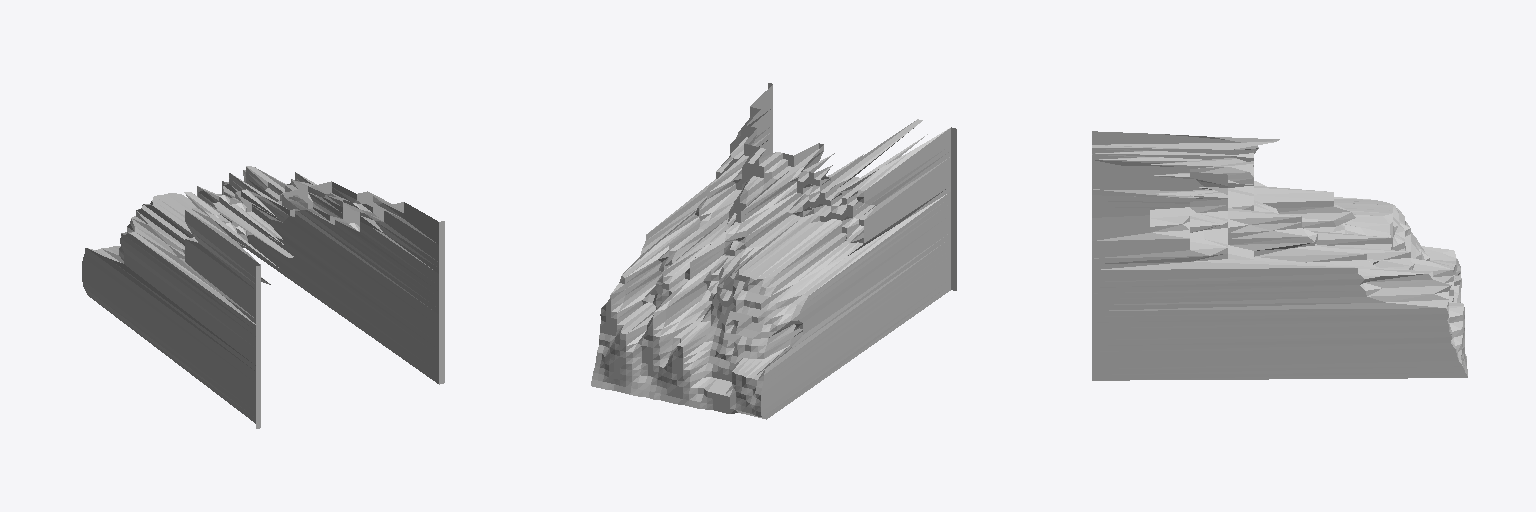
File: coordinates.obj
3 renders of one model, left to right at view 1: azimuth 30°, elevation 25°; view 2: azimuth 150°, elevation 25°; view 3: azimuth 270°, elevation 25°, orthographic.
Size of the model in its own units: 0.9714 by 0.8 by 1.68.